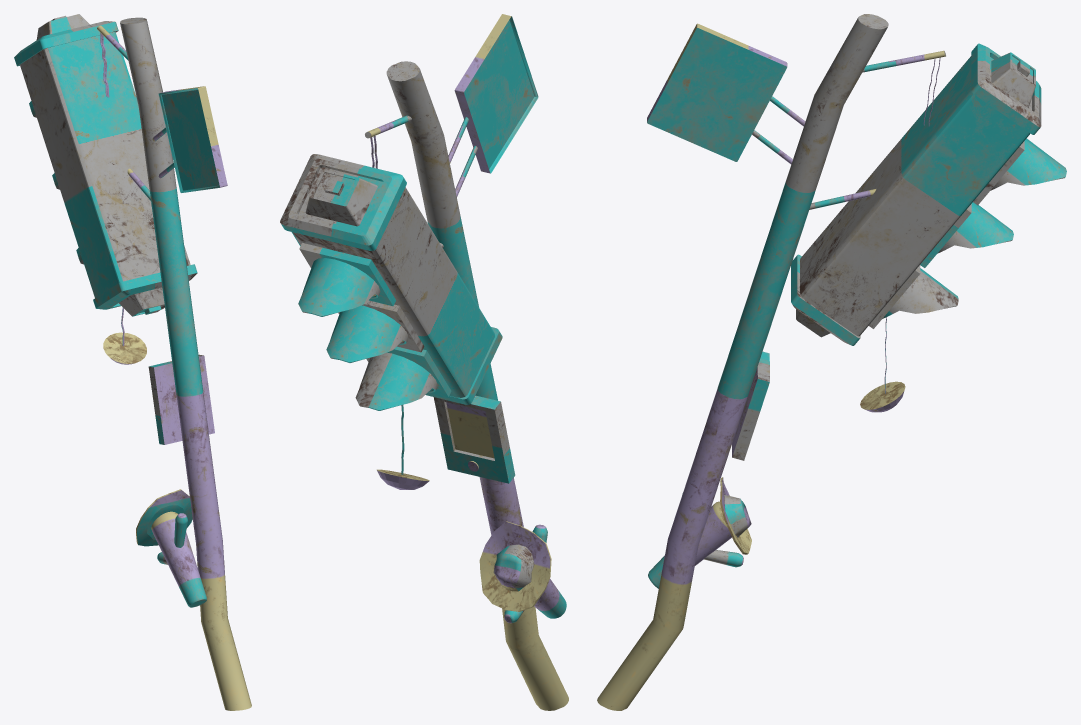
Rendered from small damaged traffic.fbx.
3 views of the same model, side by side, from view 1: azimuth 30°, elevation 25°; view 2: azimuth 150°, elevation 25°; view 3: azimuth 270°, elevation 25° (orthographic). The views are drawn at different scales.
Visible parts, largest first — view 1: polySurface399, polySurface382, polySurface260, polySurface256, polySurface381, polySurface393, polySurface389, polySurface259; view 2: polySurface382, polySurface399, polySurface389, polySurface260, polySurface256, polySurface381, polySurface397, polySurface396, polySurface395, polySurface400, polySurface390, polySurface398 (+2 smaller); view 3: polySurface399, polySurface382, polySurface260, polySurface389, polySurface256, polySurface397, polySurface395, polySurface396, polySurface381, polySurface393, polySurface259.
Part boxes in pixels (x1=…): polySurface399: x1=20, y1=31, x2=190, y2=297; polySurface382: x1=120, y1=17, x2=251, y2=710; polySurface260: x1=158, y1=86, x2=227, y2=192; polySurface256: x1=136, y1=489, x2=206, y2=607; polySurface381: x1=148, y1=354, x2=214, y2=444; polySurface393: x1=93, y1=264, x2=197, y2=316; polySurface389: x1=14, y1=14, x2=118, y2=66; polySurface259: x1=103, y1=332, x2=146, y2=364; polySurface382: x1=386, y1=61, x2=568, y2=710; polySurface399: x1=291, y1=187, x2=494, y2=397; polySurface389: x1=280, y1=154, x2=406, y2=251; polySurface260: x1=454, y1=14, x2=538, y2=173; polySurface256: x1=479, y1=521, x2=566, y2=623; polySurface381: x1=433, y1=395, x2=515, y2=483; polySurface397: x1=298, y1=258, x2=380, y2=316; polySurface396: x1=355, y1=352, x2=437, y2=410; polySurface395: x1=326, y1=305, x2=408, y2=362; polySurface400: x1=299, y1=242, x2=395, y2=306; polySurface390: x1=366, y1=346, x2=451, y2=396; polySurface398: x1=338, y1=300, x2=424, y2=352; polySurface399: x1=800, y1=56, x2=1030, y2=336; polySurface382: x1=597, y1=14, x2=888, y2=710; polySurface260: x1=647, y1=23, x2=787, y2=161; polySurface389: x1=971, y1=43, x2=1041, y2=134; polySurface256: x1=648, y1=477, x2=751, y2=588; polySurface397: x1=990, y1=138, x2=1066, y2=190; polySurface395: x1=937, y1=202, x2=1013, y2=253; polySurface396: x1=882, y1=268, x2=958, y2=318; polySurface381: x1=732, y1=351, x2=769, y2=460; polySurface393: x1=791, y1=254, x2=860, y2=345; polySurface259: x1=860, y1=381, x2=905, y2=412.
Bounding box in the file's own units: 0.498 × 3.27 × 2.01.
